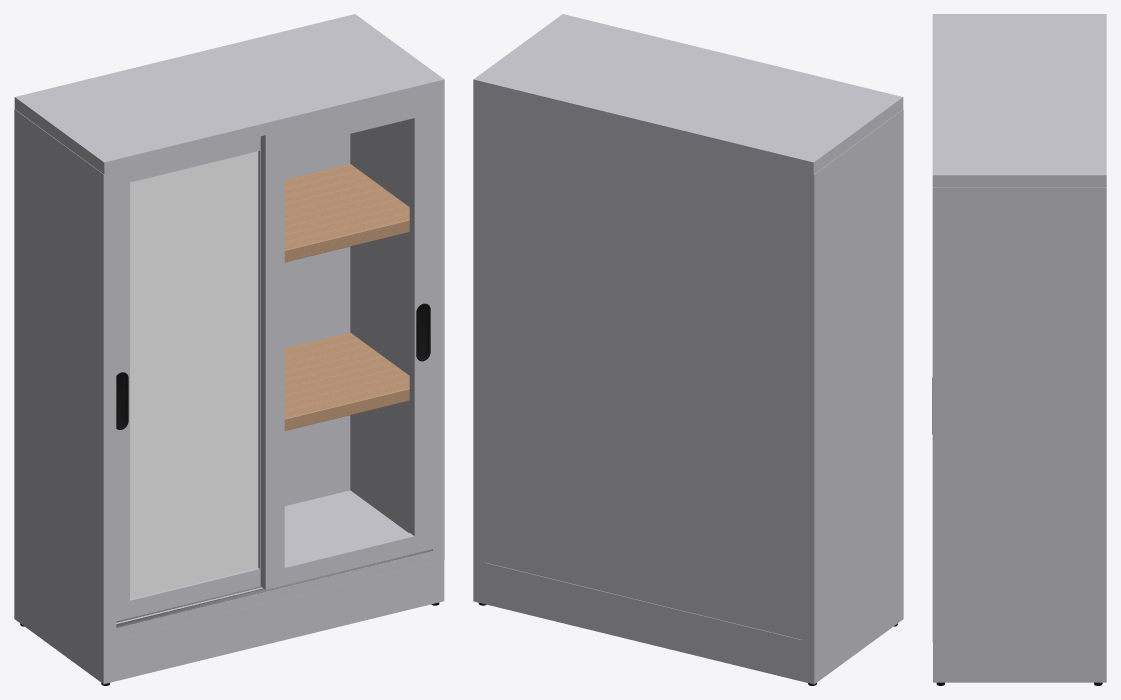
Rendered from cabinets.glb.
The picture shows the model from 3 angles, left to right: view 1: azimuth 30°, elevation 25°; view 2: azimuth 150°, elevation 25°; view 3: azimuth 270°, elevation 25°; orthographic projection. The views are drawn at different scales.
Parts seen in each view (by area): view 1: Cube.008, Cube.004, Cube.006, Cube.009, Cube.003, Cube.001, Cube.014, Cube.002, Cube.007, Cube.011, Cube.012, Cylinder.003 (+1 smaller); view 2: Cube.002, Cube.004, Cube.006, Cube.001, Cube.003; view 3: Cube.003, Cube.006, Cube.001.
Part boxes in pixels (box(x1,y1,x2,y2)): Cube.008: box(130, 151, 258, 598); Cube.004: box(14, 109, 116, 642); Cube.006: box(14, 14, 444, 174); Cube.009: box(260, 94, 432, 589); Cube.003: box(350, 91, 444, 562); Cube.001: box(14, 560, 444, 684); Cube.014: box(284, 164, 409, 430); Cube.002: box(284, 134, 350, 505); Cube.007: box(116, 136, 260, 621); Cube.011: box(116, 490, 432, 639); Cube.012: box(116, 549, 432, 627); Cylinder.003: box(416, 303, 430, 361); Cube.002: box(484, 94, 801, 639); Cube.004: box(802, 109, 903, 642); Cube.006: box(473, 14, 903, 174); Cube.001: box(473, 560, 903, 684); Cube.003: box(473, 91, 484, 562); Cube.003: box(932, 187, 1106, 642); Cube.006: box(932, 14, 1106, 186); Cube.001: box(933, 642, 1106, 682).
Bounding box in the file's own units: 0.817 × 1.21 × 0.3724.
Materials: 5 (1 with a texture image).
